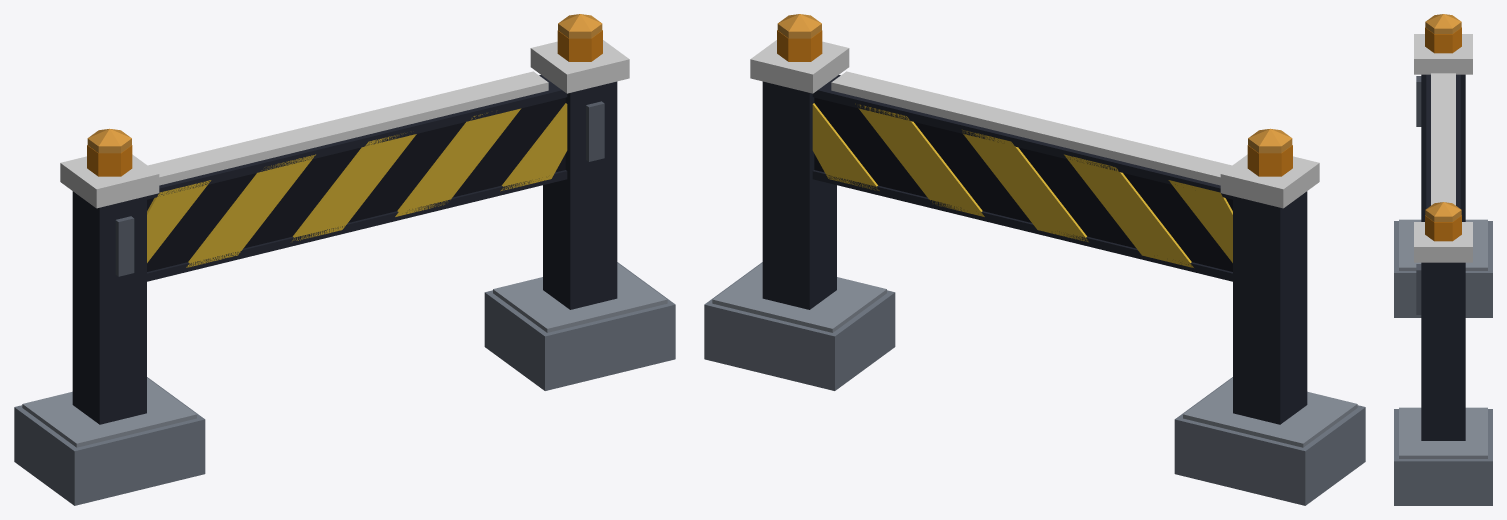
Rendered from prop_barrier.glb.
3 views of the same model, side by side, from view 1: azimuth 30°, elevation 25°; view 2: azimuth 150°, elevation 25°; view 3: azimuth 270°, elevation 25° (orthographic). The views are drawn at different scales.
Parts seen in each view (by area): view 1: barrier; view 2: barrier; view 3: barrier.
Boxes of the visible parts, x1,y1,x2,y2 form: barrier: (14, 14, 675, 505); barrier: (704, 14, 1365, 505); barrier: (1394, 14, 1492, 505).
Size of the model in its own units: 2.3 by 1.24 by 0.4.
